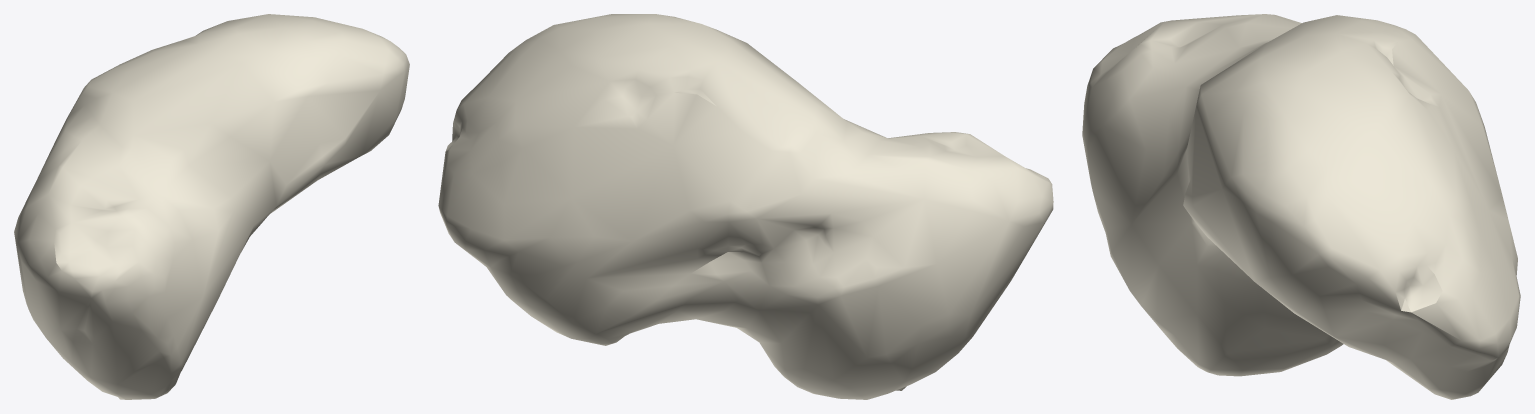
File: fma24435.glb
3 renders of one model, left to right at view 1: azimuth 30°, elevation 25°; view 2: azimuth 150°, elevation 25°; view 3: azimuth 270°, elevation 25°, orthographic. The views are drawn at different scales.
Visible parts, largest first — view 1: FMA24435; view 2: FMA24435; view 3: FMA24435.
Part boxes in pixels (x1,y1,x2,y2): FMA24435: [14, 14, 409, 399]; FMA24435: [438, 14, 1053, 399]; FMA24435: [1082, 14, 1520, 399].
Bounding box in the file's own units: 0.0238 × 0.0157 × 0.0154.
